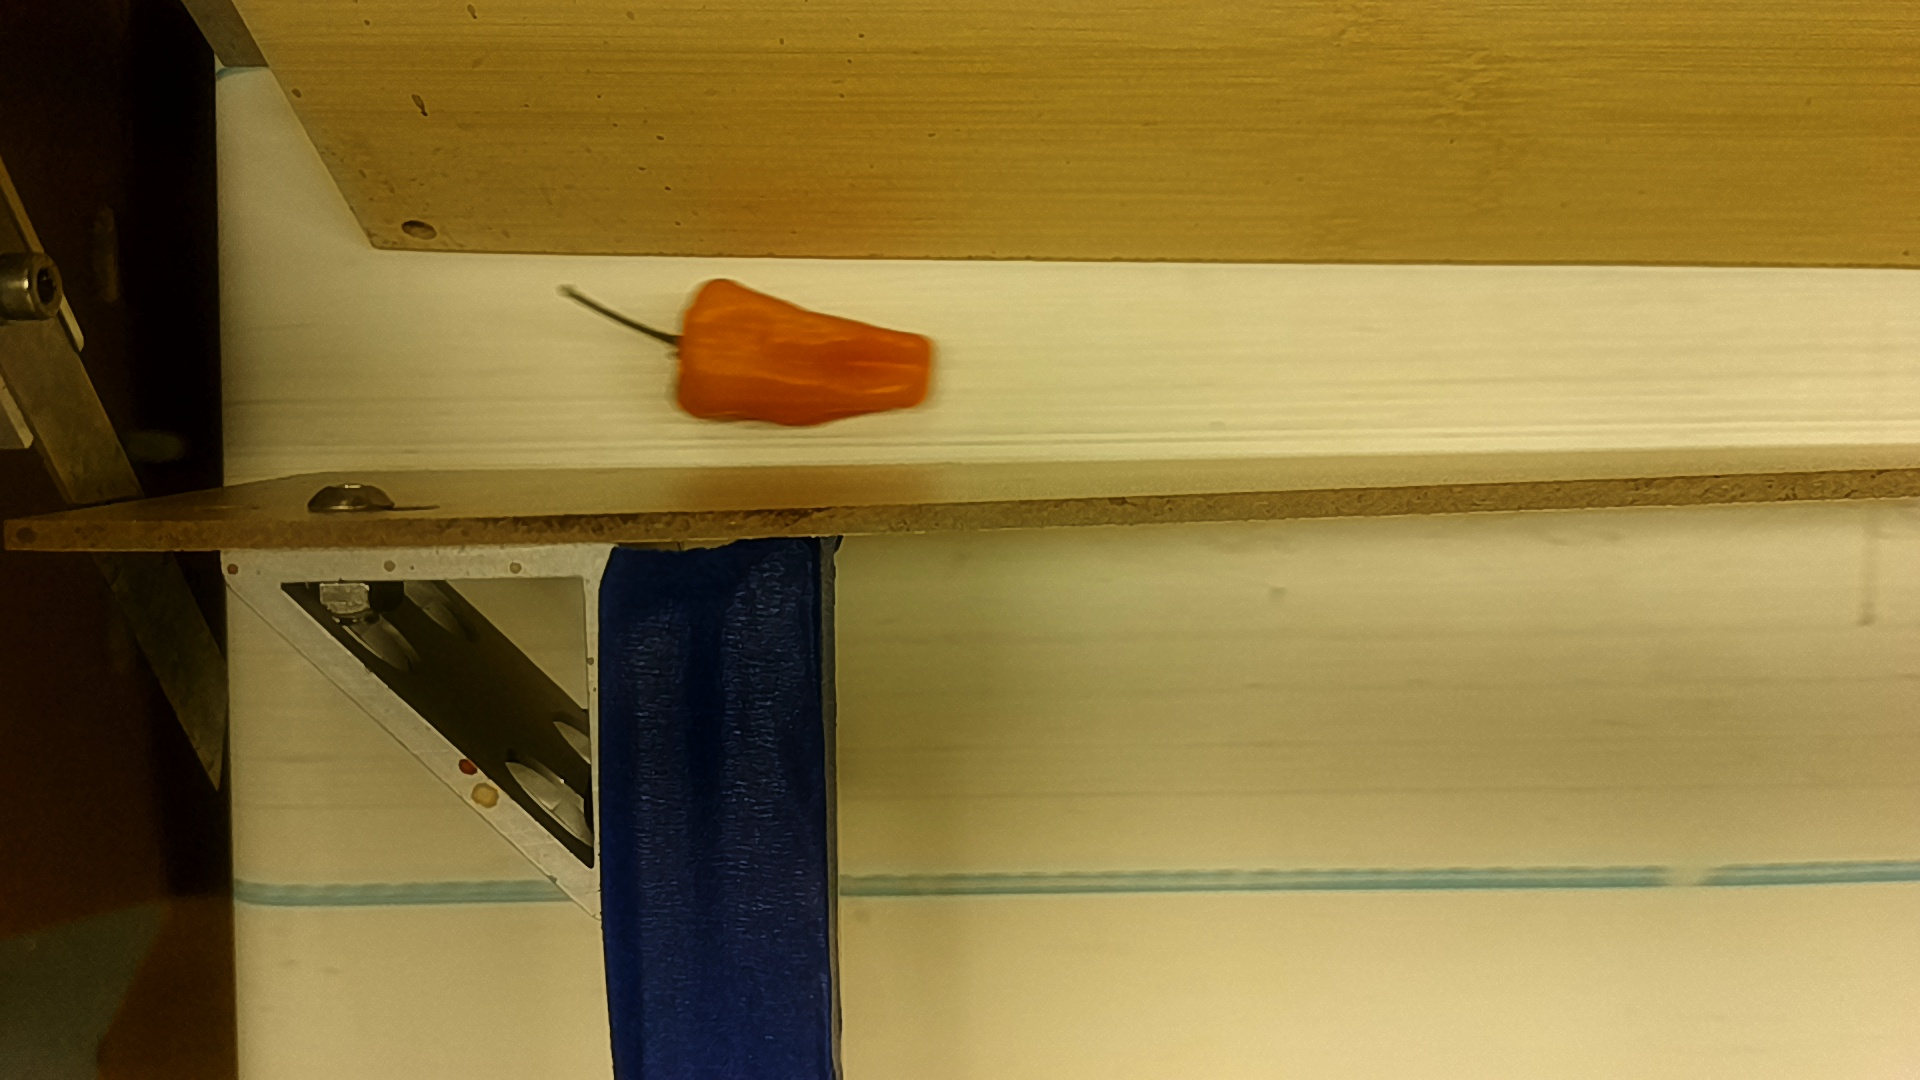Cut Point: (663, 264, 712, 433)
